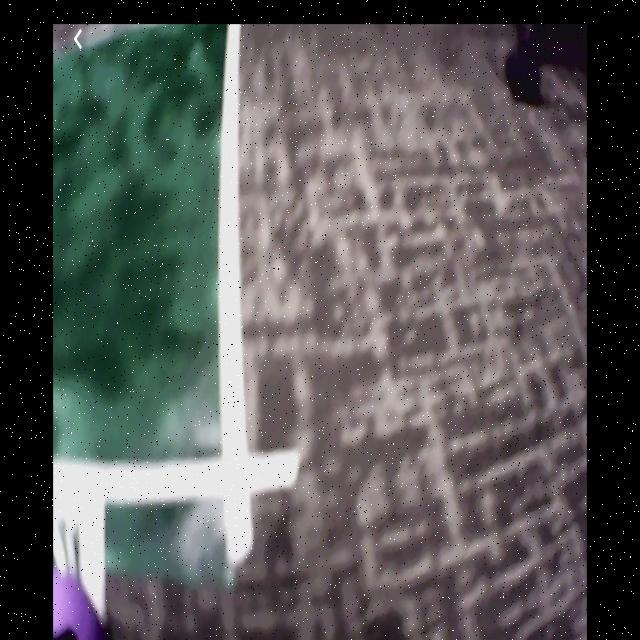ball: (53, 564, 103, 640)
